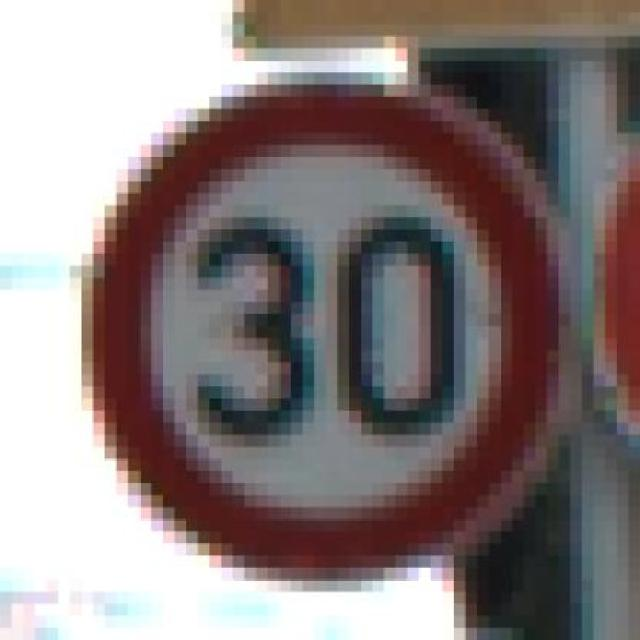Speed Limit 30 KMPh: (46, 72, 594, 605)
